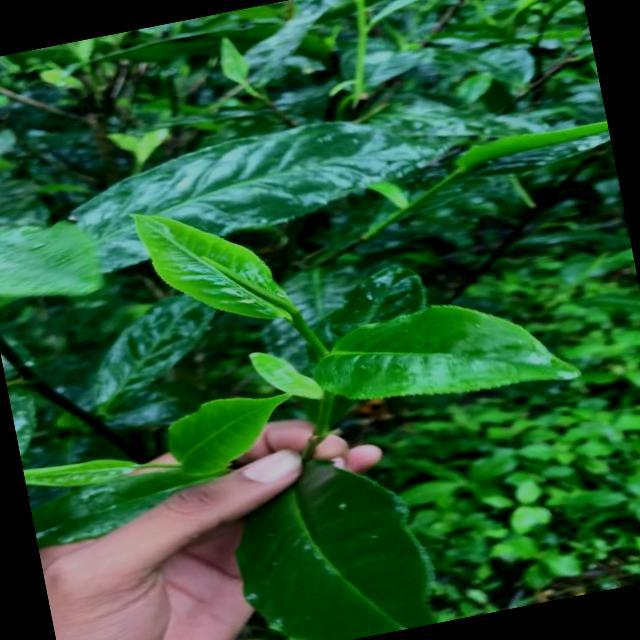Stem: (291, 316, 308, 332)
